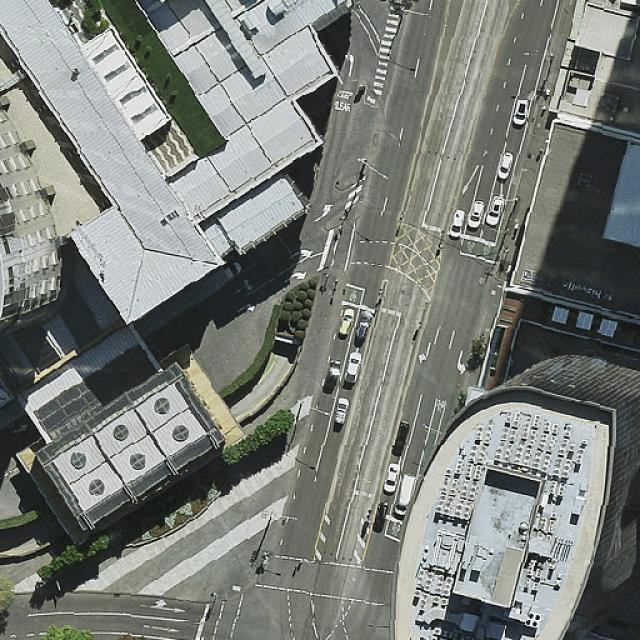Bike-Symbols: (435, 398, 446, 414), (482, 245, 493, 258), (349, 290, 359, 302), (466, 241, 476, 253), (392, 524, 401, 536)
